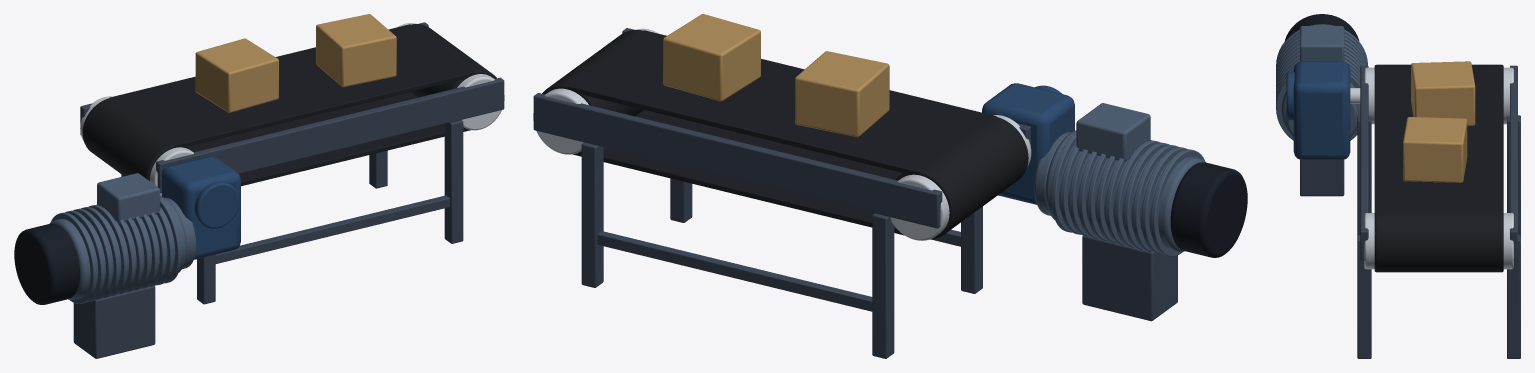
File: conveyor.glb
3 renders of one model, left to right at view 1: azimuth 30°, elevation 25°; view 2: azimuth 150°, elevation 25°; view 3: azimuth 270°, elevation 25°, orthographic. The views are drawn at different scales.
Parts seen in each view (by area): view 1: M_BeltTop, M_RailF, M_MotorFins, M_Carton0, M_Carton1, M_MotorStand, M_BeltReturn, M_HeadWrap, M_FanCover, M_Gearbox, M_BraceF, M_MotorBody (+9 smaller); view 2: M_BeltTop, M_RailB, M_MotorFins, M_BeltReturn, M_Carton1, M_Carton0, M_HeadWrap, M_MotorStand, M_FanCover, M_Gearbox, M_BraceB, M_MotorBody (+9 smaller); view 3: M_BeltTop, M_TailWrap, M_Gearbox, M_Carton1, M_Carton0, M_MotorFins, M_MotorStand, M_TerminalBox, M_RailF, M_LegF1, M_LegB1, M_RailB (+9 smaller).
Part boxes in pixels (x1,y1,x2,y2): M_BeltTop: (110, 24, 475, 147); M_RailF: (156, 77, 504, 193); M_MotorFins: (50, 197, 181, 303); M_Carton0: (195, 38, 278, 112); M_Carton1: (316, 14, 396, 87); M_MotorStand: (73, 286, 155, 358); M_BeltReturn: (190, 92, 470, 186); M_HeadWrap: (82, 98, 196, 180); M_FanCover: (14, 223, 79, 304); M_Gearbox: (161, 156, 240, 259); M_BraceF: (215, 195, 449, 263); M_MotorBody: (49, 196, 186, 299); M_BeltTop: (568, 30, 996, 174); M_RailB: (533, 93, 942, 228); M_MotorFins: (1051, 131, 1204, 256); M_BeltReturn: (572, 110, 904, 235); M_Carton1: (663, 14, 760, 101); M_Carton0: (795, 51, 889, 137); M_HeadWrap: (895, 117, 1028, 239); M_MotorStand: (1082, 235, 1177, 321); M_FanCover: (1170, 162, 1247, 257); M_Gearbox: (982, 83, 1074, 204); M_BraceB: (597, 231, 872, 311); M_MotorBody: (1045, 130, 1205, 251); M_BeltTop: (1374, 67, 1503, 213); M_TailWrap: (1374, 212, 1503, 272); M_Gearbox: (1293, 61, 1350, 159); M_Carton1: (1403, 117, 1467, 182); M_Carton0: (1411, 61, 1475, 125); M_MotorFins: (1276, 24, 1367, 140); M_MotorStand: (1300, 159, 1344, 196); M_TerminalBox: (1300, 26, 1344, 61); M_RailF: (1360, 65, 1368, 260); M_LegF1: (1357, 235, 1371, 358); M_LegB1: (1507, 235, 1520, 358); M_RailB: (1510, 65, 1517, 260).
Size of the model in its own units: 2.81 by 1.07 by 1.21.
